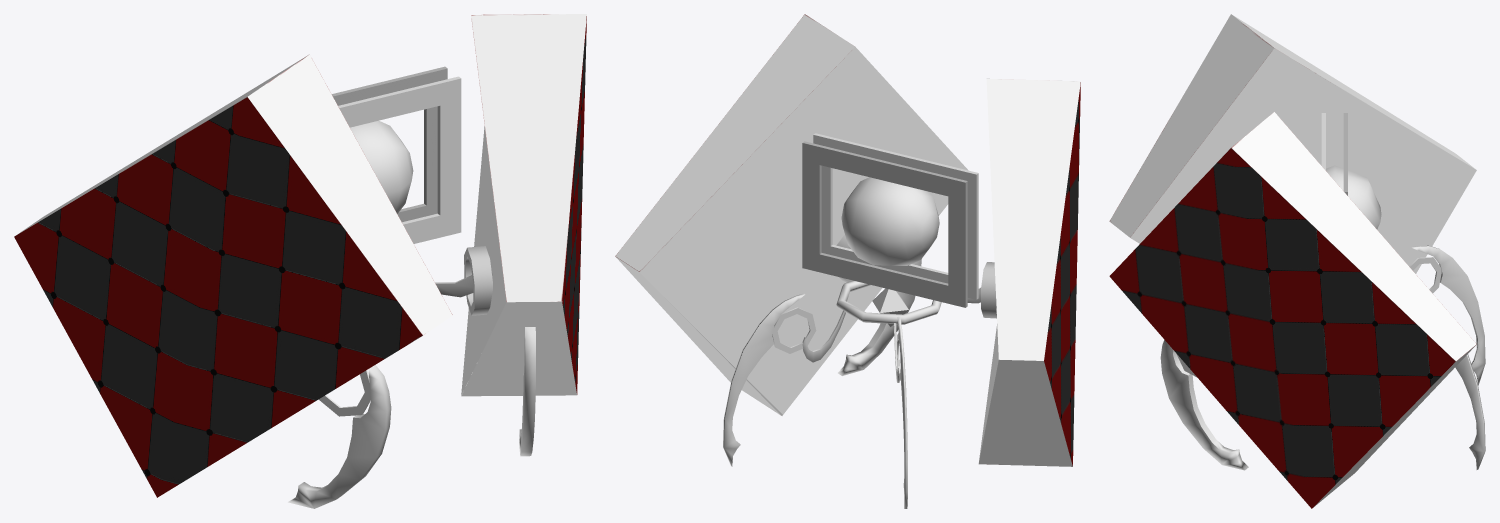
Rendered from Enemy C.fbx.
3 renders of one model, left to right at view 1: azimuth 30°, elevation 25°; view 2: azimuth 150°, elevation 25°; view 3: azimuth 270°, elevation 25°, orthographic. The views are drawn at different scales.
Visible parts, largest first — view 1: Shield_Right, Shield_Left, Card_Front, Hand_Right, Card_Back, Eyeball, Hand_Left; view 2: Shield_Left, Shield_Right, Card_Back, Eyeball, Card_Front, Leg_Left, polySurface94, Hand_Left, Leg_Right, Barcket; view 3: Shield_Left, Shield_Right, Hand_Left, Leg_Right, Eyeball, Leg_Left.
Part boxes in pixels (box(x1,y1,x2,y2)): Shield_Right: box(14, 54, 452, 497); Shield_Left: box(435, 14, 586, 396); Card_Front: box(338, 76, 461, 243); Hand_Right: box(288, 365, 391, 508); Card_Back: box(332, 66, 447, 222); Eyeball: box(350, 120, 413, 213); Hand_Left: box(519, 327, 535, 456); Shield_Left: box(615, 14, 968, 415); Shield_Right: box(967, 78, 1080, 466); Card_Back: box(802, 141, 967, 307); Eyeball: box(841, 177, 939, 265); Card_Front: box(813, 133, 978, 299); Leg_Left: box(723, 293, 845, 466); polySurface94: box(836, 280, 941, 324); Hand_Left: box(838, 259, 921, 375); Leg_Right: box(894, 316, 907, 508); Barcket: box(872, 288, 908, 326); Shield_Left: box(1109, 112, 1476, 508); Shield_Right: box(1109, 14, 1476, 273); Hand_Left: box(1160, 340, 1248, 470); Leg_Right: box(1409, 245, 1485, 385); Eyeball: box(1326, 165, 1381, 229); Leg_Left: box(1455, 354, 1485, 469).
Size of the model in its own units: 221 by 172 by 169.
Materials: 5 (2 with a texture image).
